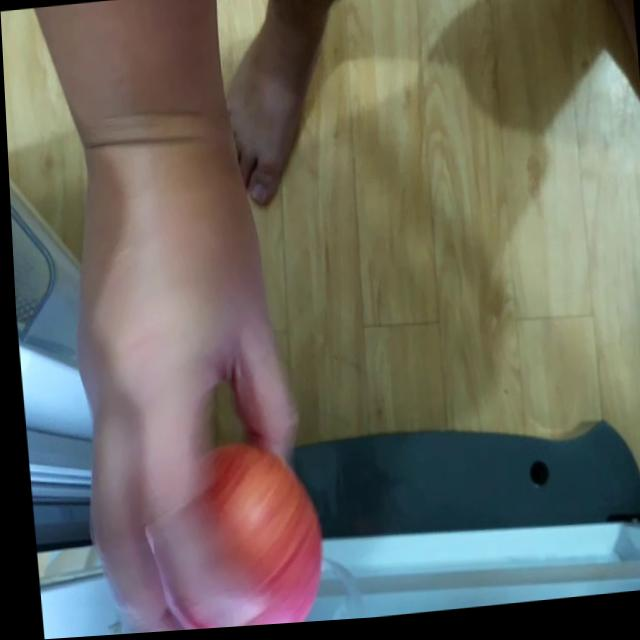apple: (148, 435, 320, 633)
